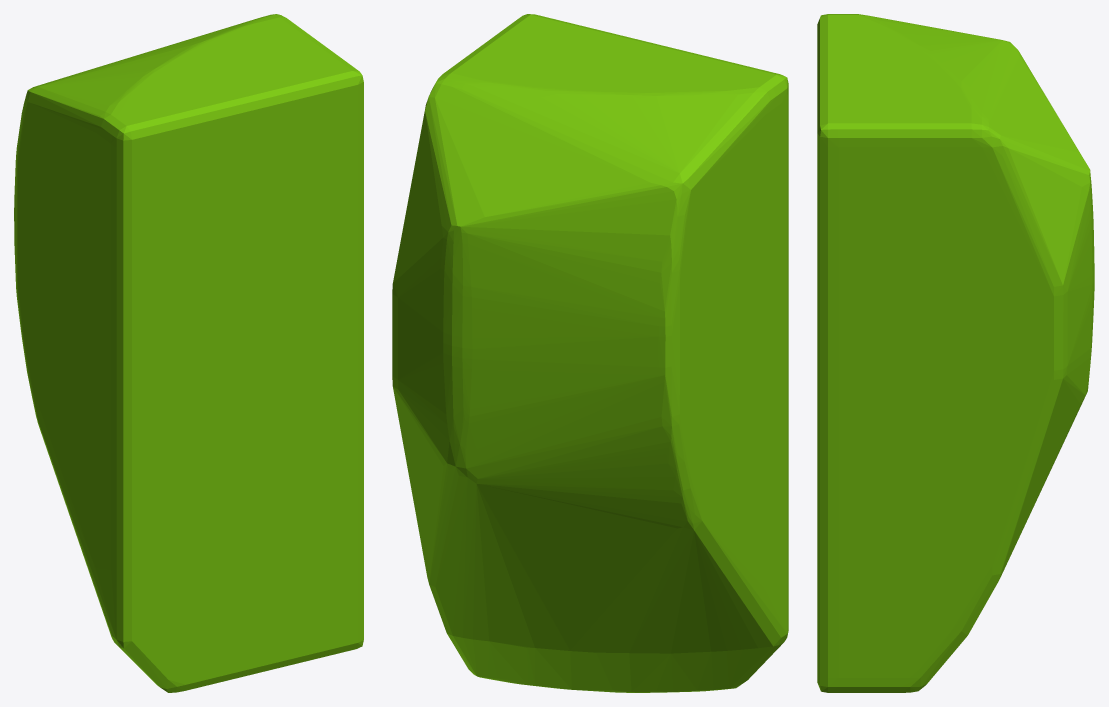
Rendered from left_hip_roll_link_part_4.obj.
3 renders of one model, left to right at view 1: azimuth 30°, elevation 25°; view 2: azimuth 150°, elevation 25°; view 3: azimuth 270°, elevation 25°, orthographic. The views are drawn at different scales.
Size of the model in its own units: 0.0336 by 0.0752 by 0.0333.
